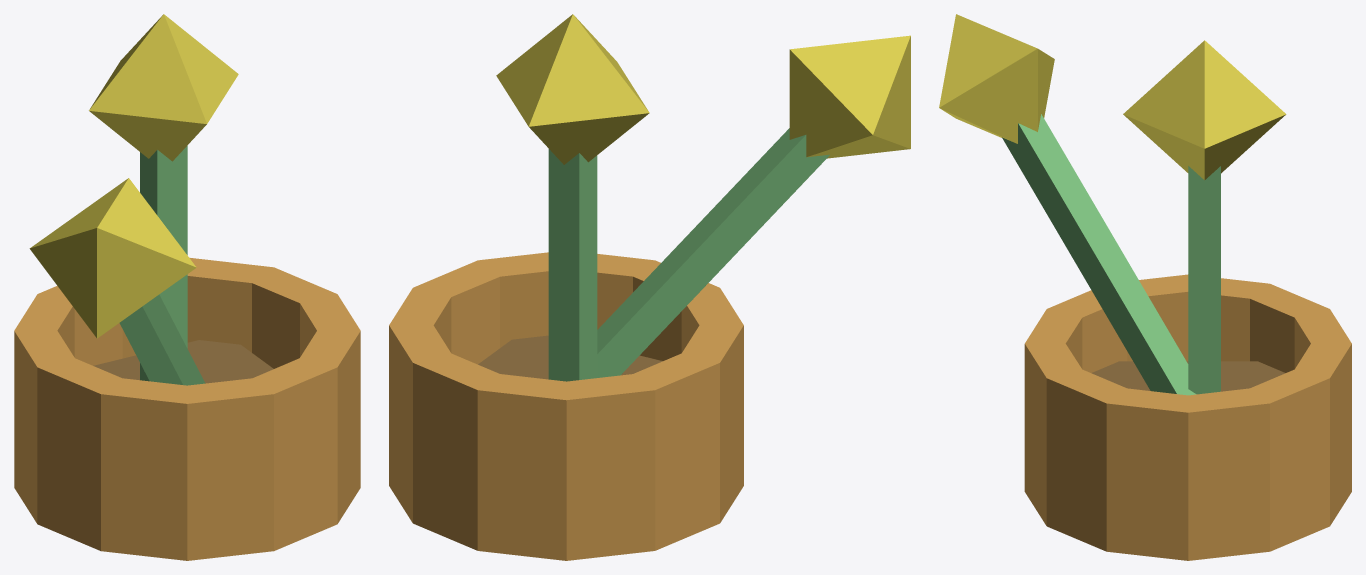
The model's file is plant_10.glb.
3 renders of one model, left to right at view 1: azimuth 30°, elevation 25°; view 2: azimuth 150°, elevation 25°; view 3: azimuth 270°, elevation 25°, orthographic. The views are drawn at different scales.
Parts seen in each view (by area): view 1: Mesh_Mesh_head_geo.001_lambert2SG.001; view 2: Mesh_Mesh_head_geo.001_lambert2SG.001; view 3: Mesh_Mesh_head_geo.001_lambert2SG.001.
Boxes of the visible parts, x1=… form: Mesh_Mesh_head_geo.001_lambert2SG.001: x1=14, y1=14, x2=360, y2=560; Mesh_Mesh_head_geo.001_lambert2SG.001: x1=389, y1=14, x2=910, y2=560; Mesh_Mesh_head_geo.001_lambert2SG.001: x1=939, y1=14, x2=1351, y2=560.
Bounding box in the file's own units: 1.26 × 1.5 × 1.26.
